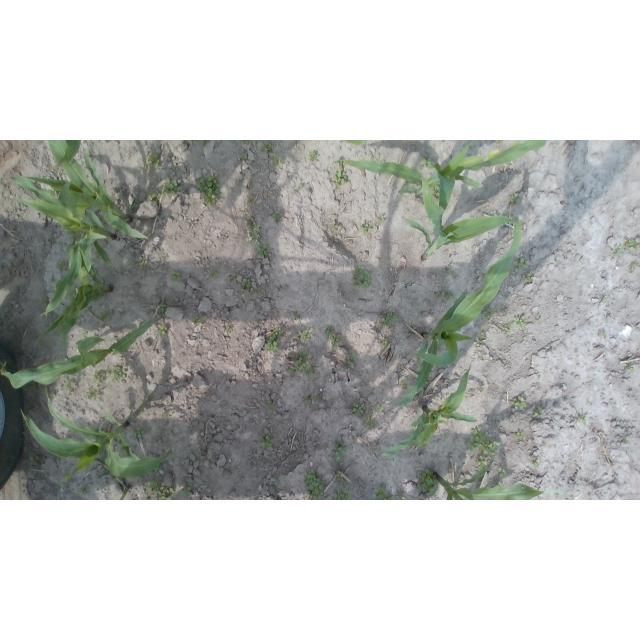Maize: (394, 218, 522, 407), (9, 173, 119, 318), (0, 302, 162, 390), (20, 389, 173, 480), (26, 141, 148, 240), (343, 141, 546, 200), (404, 172, 525, 261), (371, 366, 477, 457), (34, 241, 112, 357), (435, 466, 574, 500), (51, 140, 119, 172), (343, 140, 446, 146)
Weeds: (465, 426, 500, 462), (195, 175, 221, 209), (289, 351, 320, 379), (304, 470, 327, 500), (350, 264, 373, 289), (415, 468, 437, 494), (149, 480, 176, 500), (265, 326, 283, 351), (66, 229, 82, 253), (331, 440, 347, 463), (163, 177, 183, 195), (146, 152, 163, 172), (326, 327, 342, 348), (375, 482, 393, 500), (379, 310, 397, 326), (132, 426, 148, 444), (509, 396, 528, 411), (108, 367, 127, 382), (259, 434, 275, 451), (331, 172, 347, 188), (623, 239, 640, 254), (430, 182, 442, 202), (91, 371, 107, 385), (361, 413, 375, 429), (332, 489, 352, 500), (474, 455, 488, 470), (513, 258, 527, 273), (85, 388, 101, 401), (181, 482, 193, 498), (29, 455, 45, 467), (513, 316, 527, 329), (360, 221, 373, 235), (350, 401, 363, 415), (256, 244, 269, 258), (435, 290, 453, 300), (126, 203, 139, 216), (611, 246, 625, 258), (481, 306, 495, 318), (260, 141, 274, 153), (147, 190, 161, 202), (502, 322, 515, 334), (508, 193, 521, 205), (420, 157, 433, 169), (347, 354, 359, 367), (299, 329, 312, 341), (170, 269, 183, 281), (157, 323, 168, 337), (98, 311, 112, 322), (576, 414, 588, 426), (529, 458, 541, 470), (521, 271, 533, 283), (64, 380, 76, 392), (245, 223, 261, 232), (248, 235, 261, 246), (329, 220, 339, 234), (241, 277, 251, 291), (444, 266, 456, 277), (622, 363, 635, 373), (158, 301, 166, 317), (57, 261, 68, 272), (308, 151, 319, 162), (477, 332, 487, 344), (192, 317, 204, 327), (272, 152, 282, 164), (629, 262, 640, 272), (497, 467, 508, 477), (39, 297, 50, 307), (208, 269, 219, 279), (272, 211, 282, 222), (338, 158, 347, 170), (311, 392, 324, 400), (47, 187, 58, 196), (246, 194, 255, 204), (534, 406, 543, 416), (477, 352, 487, 361), (266, 400, 275, 410), (66, 289, 75, 299), (114, 193, 124, 202), (151, 464, 162, 472), (395, 492, 406, 500), (302, 397, 311, 406), (80, 486, 89, 495), (513, 432, 523, 440), (373, 404, 383, 412), (598, 331, 607, 339), (401, 381, 409, 390), (230, 273, 238, 282), (379, 215, 386, 225), (381, 338, 388, 348), (622, 436, 630, 444), (477, 385, 485, 393), (336, 473, 344, 481), (492, 481, 501, 488), (239, 154, 248, 161), (408, 181, 418, 187), (536, 317, 544, 324), (138, 407, 146, 414), (48, 390, 56, 397), (295, 312, 301, 321), (275, 475, 282, 482), (139, 260, 147, 266), (200, 140, 208, 146), (101, 220, 107, 227), (601, 297, 608, 303), (119, 310, 126, 316), (45, 241, 52, 247), (541, 441, 547, 447), (226, 329, 233, 334), (162, 414, 168, 419), (245, 140, 251, 145), (300, 184, 307, 188), (495, 141, 504, 144), (246, 216, 251, 221), (254, 288, 260, 292), (164, 254, 169, 258)
